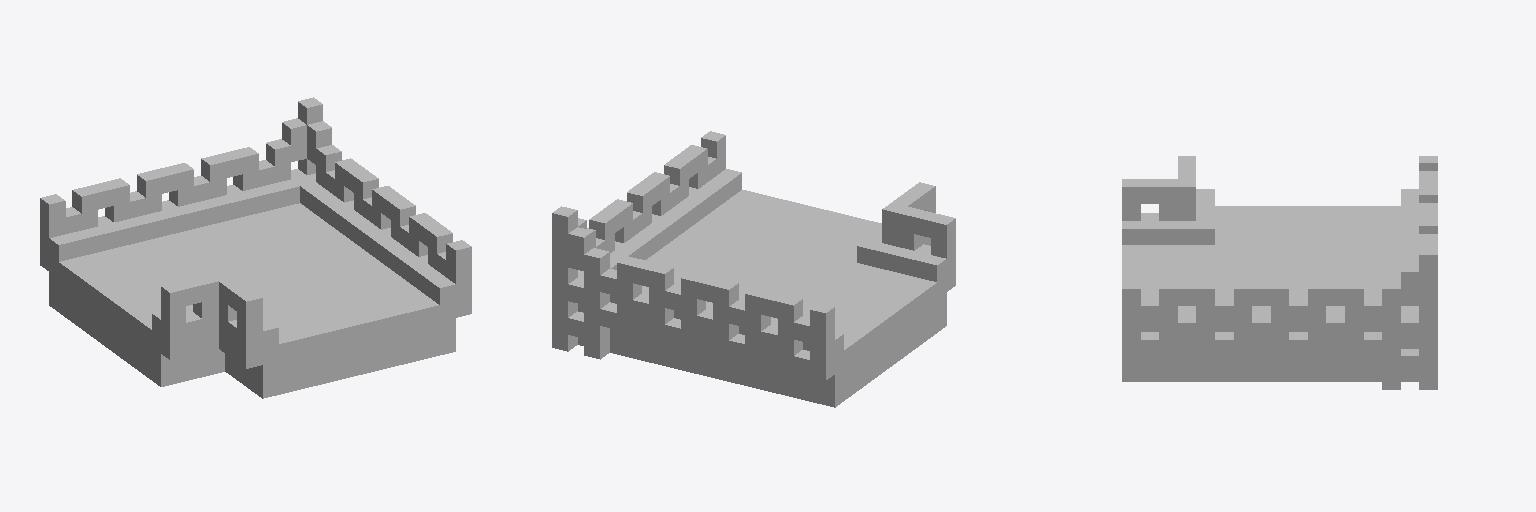
The model's file is wall_1100.obj.
The picture shows the model from 3 angles: view 1: azimuth 30°, elevation 25°; view 2: azimuth 150°, elevation 25°; view 3: azimuth 270°, elevation 25°; orthographic projection.
Visible parts, largest first — view 1: wall_1100; view 2: wall_1100; view 3: wall_1100.
Part boxes in pixels (bbox=[...]): wall_1100: bbox=[40, 97, 471, 398]; wall_1100: bbox=[552, 131, 955, 407]; wall_1100: bbox=[1122, 156, 1437, 389].
Bounding box in the file's own units: 17 × 8 × 17.